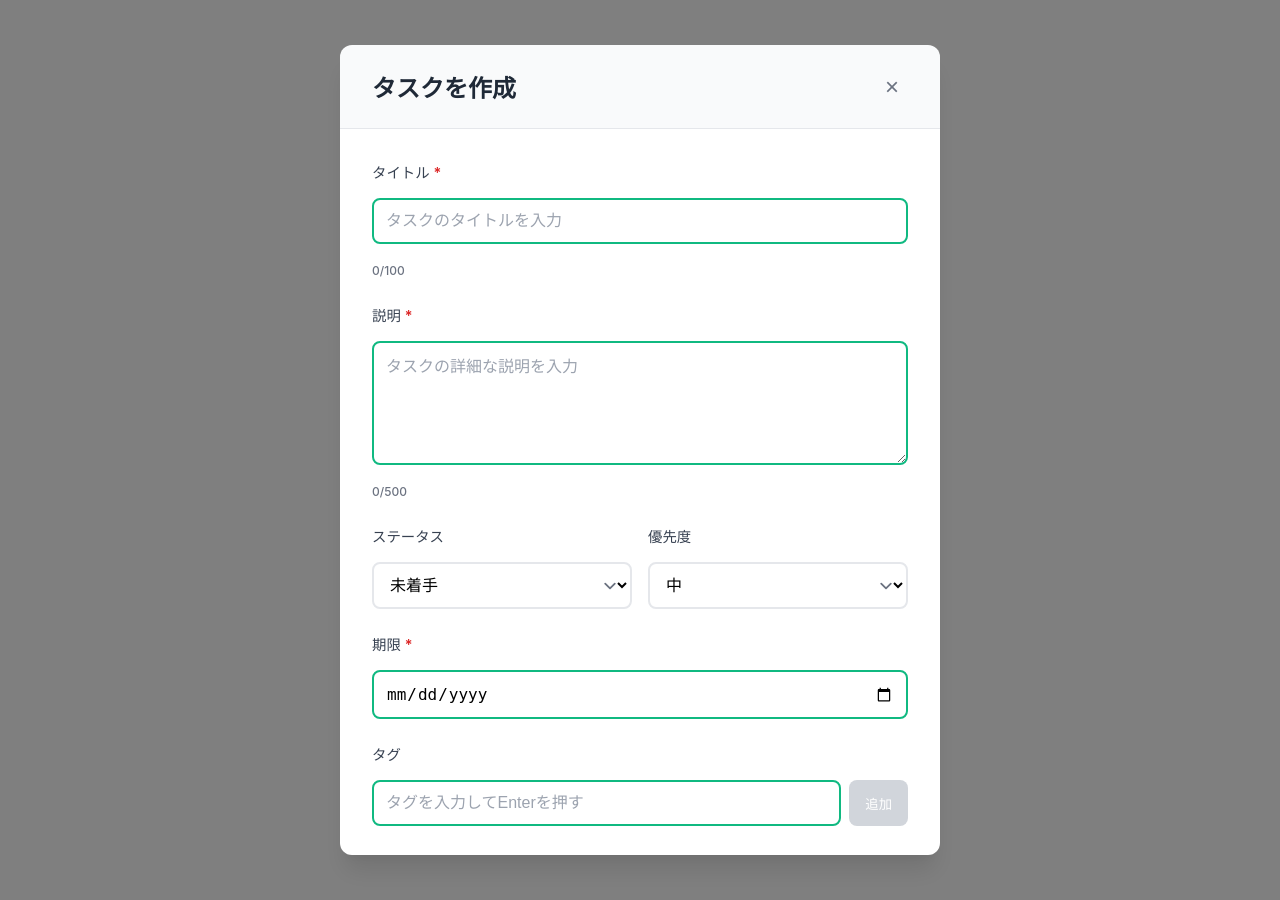
Scenario: TaskForm Component › prevents form submission with invalid data
# Only fill title, leave description empty
In the field labelled "タイトル *": (640, 221) x1=372 y1=198 x2=908 y2=244, type "Valid title"
(page scrolled)
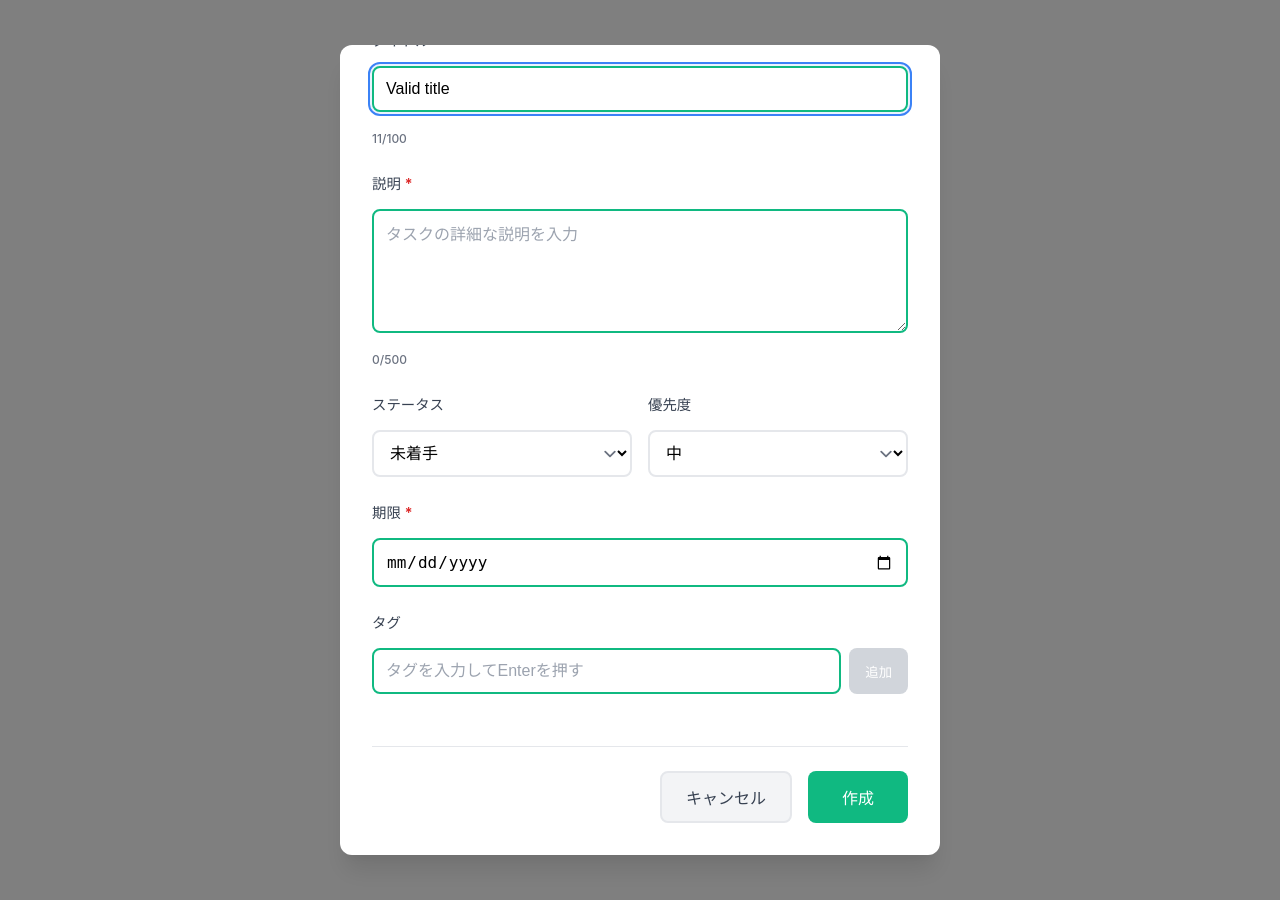
Click the button "作成": (858, 797) x1=808 y1=771 x2=908 y2=823
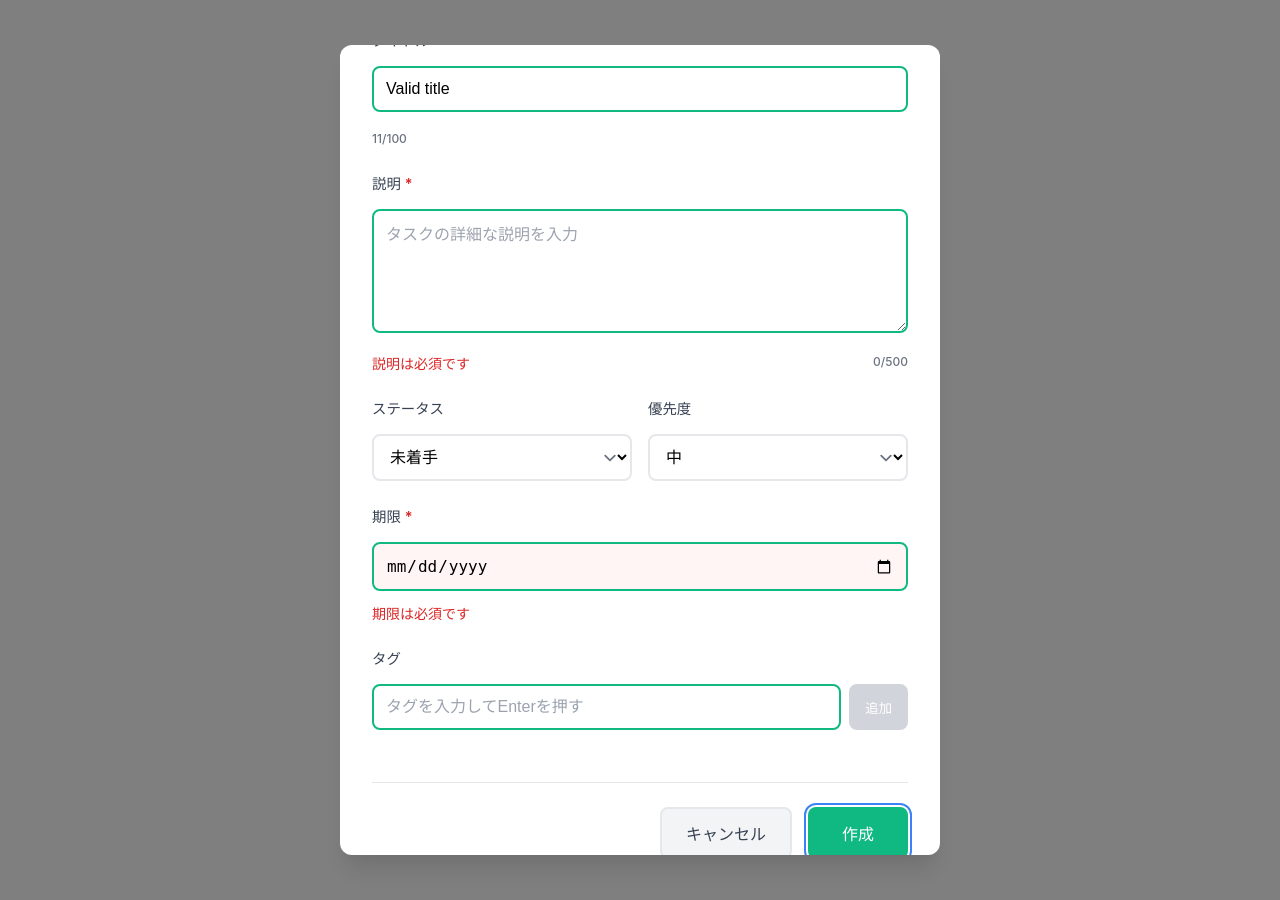
Expected: the text "説明は必須です" is shown, x1=372 y1=353 x2=470 y2=373
